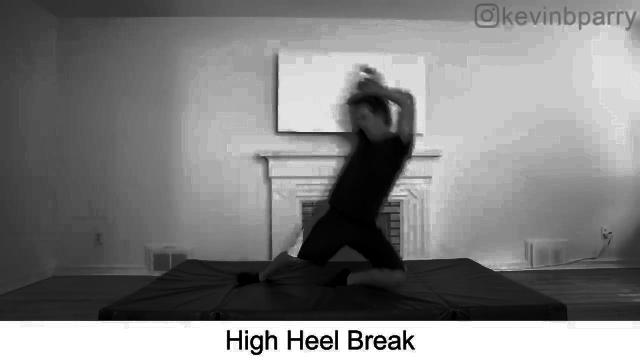jatuh: (226, 56, 422, 298)
